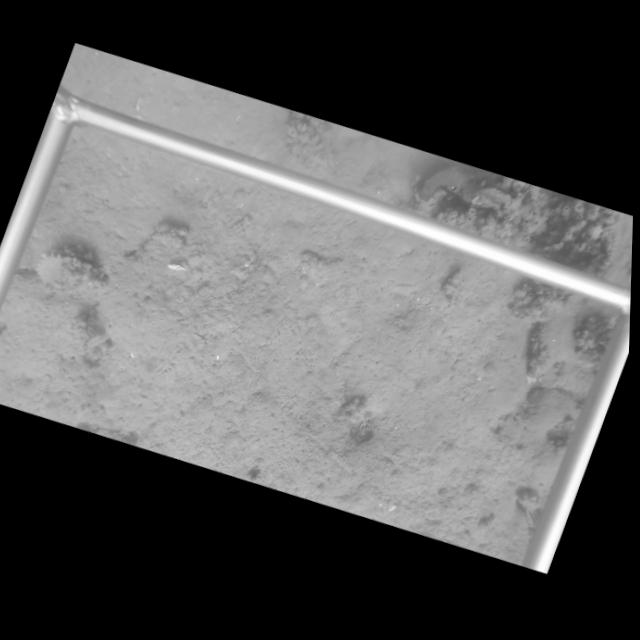Oyster-Indeterminate: (34, 248, 108, 293)
